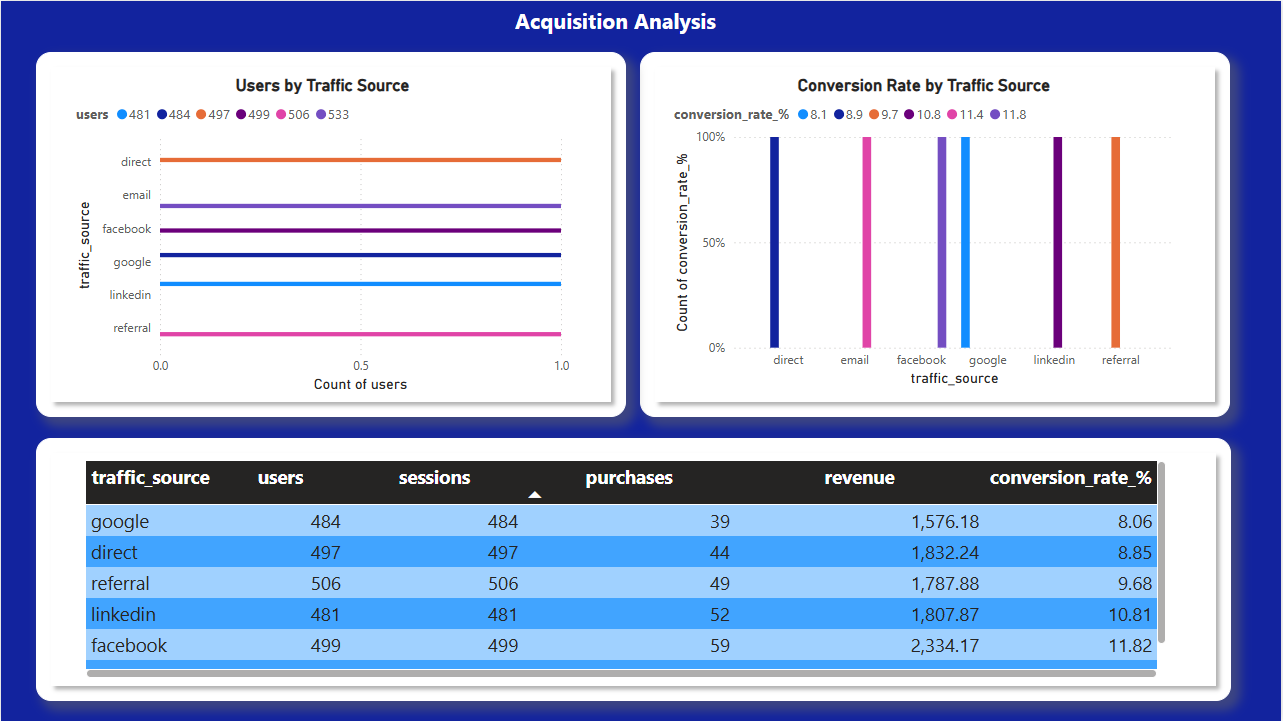

Layout of this report page (visuals, bound fields, positions):
{"tool":"powerbi","page":{"name":"Acquisition Analysis","canvas":[1280,720],"ordinal":2},"visuals":[{"type":"shape","box":[34.7,437.3,1195.6,263.1],"z":0},{"type":"shape","box":[639.1,50.7,590.2,365.3],"z":1000},{"type":"shape","box":[34.7,50.7,590.2,365.3],"z":2000},{"type":"clusteredBarChart","title":"Users by Traffic Source","fields":{"Category":["traffic_source_summary.traffic_source"],"Y":["Count(traffic_source_summary.users)"],"Series":["traffic_source_summary.users"]},"box":[70.2,73.8,503.1,322.7],"z":3000},{"type":"clusteredColumnChart","title":"Conversion Rate by Traffic Source","fields":{"Category":["traffic_source_summary.traffic_source"],"Y":["CountNonNull(traffic_source_summary.conversion_rate_%)"],"Series":["traffic_source_summary.conversion_rate_%"]},"box":[667.6,73.8,510.2,316.4],"z":4000},{"type":"tableEx","fields":{"Values":["traffic_source_summary.traffic_source","traffic_source_summary.users","traffic_source_summary.sessions","traffic_source_summary.purchases","traffic_source_summary.revenue","traffic_source_summary.conversion_rate_%"]},"box":[79.1,455.1,1090.7,226.7],"z":5000},{"type":"textbox","box":[509.3,0,299.6,43.6],"z":5001}]}

Visuals, with their boxes in screenshot pixels (x1, y1, x2, y2), scaled from the page's 1280x720 canvas onto the 1283x721 screenshot:
shape: <box>35,438,1233,701</box>
shape: <box>641,51,1232,417</box>
shape: <box>35,51,626,417</box>
"Users by Traffic Source" clusteredBarChart: <box>70,74,575,397</box>
"Conversion Rate by Traffic Source" clusteredColumnChart: <box>669,74,1181,391</box>
tableEx - traffic_source_summary.traffic_source x traffic_source_summary.users: <box>79,456,1173,683</box>
textbox: <box>510,0,811,44</box>
